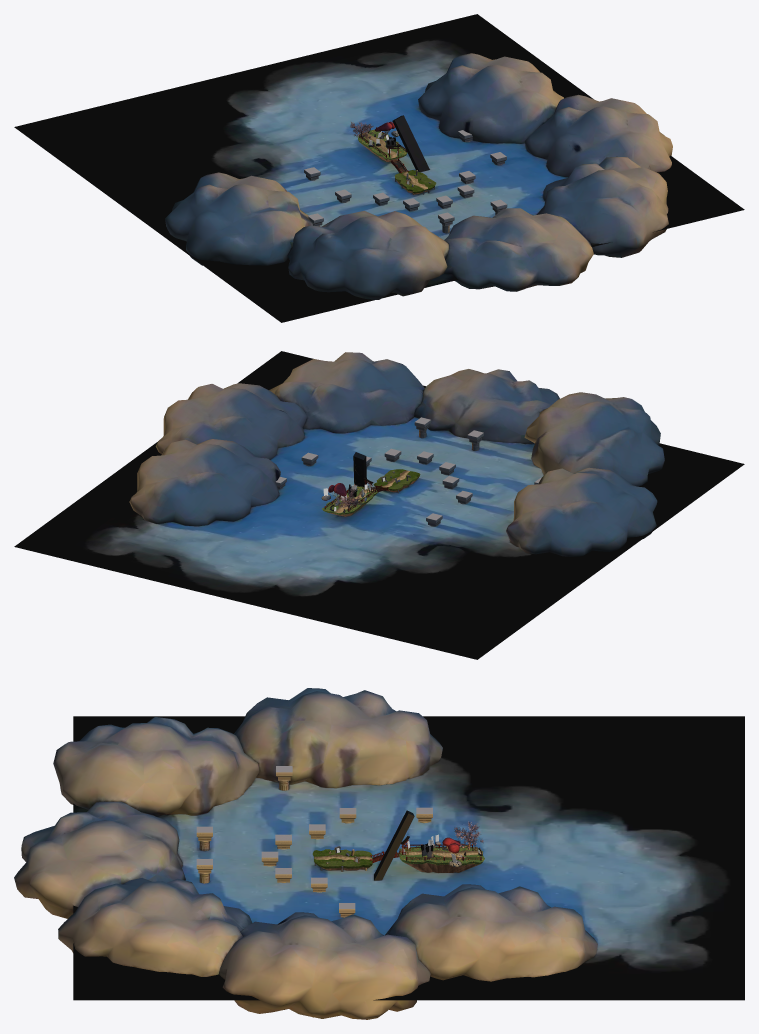
File: SKYC.glb
3 renders of one model, top to bottom at view 1: azimuth 30°, elevation 25°; view 2: azimuth 150°, elevation 25°; view 3: azimuth 270°, elevation 25°, orthographic. The views are drawn at different scales.
Visible parts, largest first — view 1: CLOUD.001, BIGC.008, PATH, BCOLUMN.002, STONE.002, MCOLUMN.002, TREE.002; view 2: CLOUD.001, BIGC.008, PATH, BCOLUMN.002, MCOLUMN.002, STONE.002, TREE.002; view 3: CLOUD.001, BIGC.008, PATH, BCOLUMN.002, MCOLUMN.002, STONE.002, TREE.002.
Boxes of the visible parts, <box> form: CLOUD.001: <box>14,14,744,322</box>; BIGC.008: <box>165,53,672,299</box>; PATH: <box>358,127,436,194</box>; BCOLUMN.002: <box>304,130,507,233</box>; STONE.002: <box>360,115,431,186</box>; MCOLUMN.002: <box>373,171,475,211</box>; TREE.002: <box>350,121,400,157</box>; CLOUD.001: <box>14,351,744,659</box>; BIGC.008: <box>129,352,664,556</box>; PATH: <box>322,469,420,516</box>; BCOLUMN.002: <box>275,417,541,526</box>; MCOLUMN.002: <box>366,448,459,489</box>; STONE.002: <box>329,452,410,512</box>; TREE.002: <box>328,477,373,510</box>; CLOUD.001: <box>73,716,744,1000</box>; BIGC.008: <box>14,688,597,1019</box>; PATH: <box>312,844,484,872</box>; BCOLUMN.002: <box>196,766,432,1009</box>; MCOLUMN.002: <box>261,824,327,892</box>; STONE.002: <box>326,810,482,880</box>; TREE.002: <box>399,821,484,859</box>.
Bounding box in the file's own units: 180 × 41.57 × 191.
29 materials, 27 textured.
